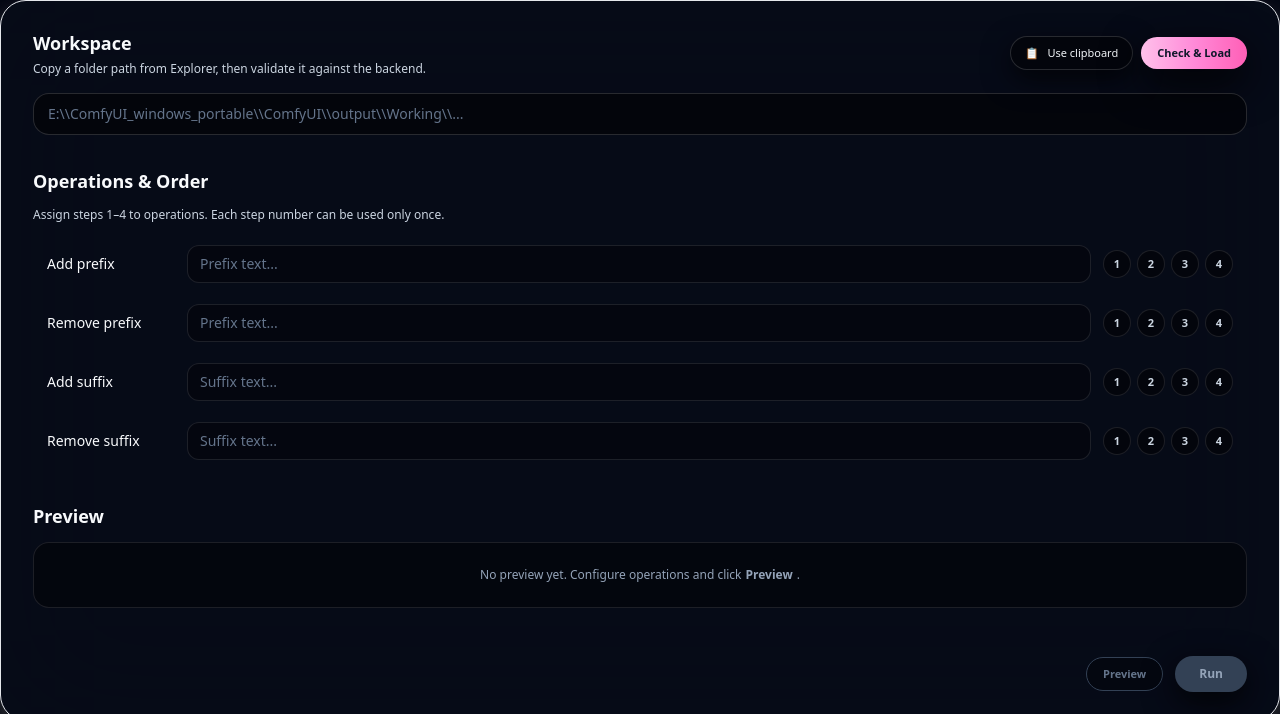
Test case: OpsConsole preview + selective run › supports toggling the select-all checkbox
Type "D:\\Samples" into the field with placeholder "E:\\\\ComfyUI_windows_portable\\\\ComfyUI\\\\output\\\\Working\\\\...".
click(640, 114); type("D:\\Samples")  # box x1=33 y1=93 x2=1247 y2=135
Click the button "Check & Load".
click(1194, 53)  # box x1=1141 y1=37 x2=1247 y2=69
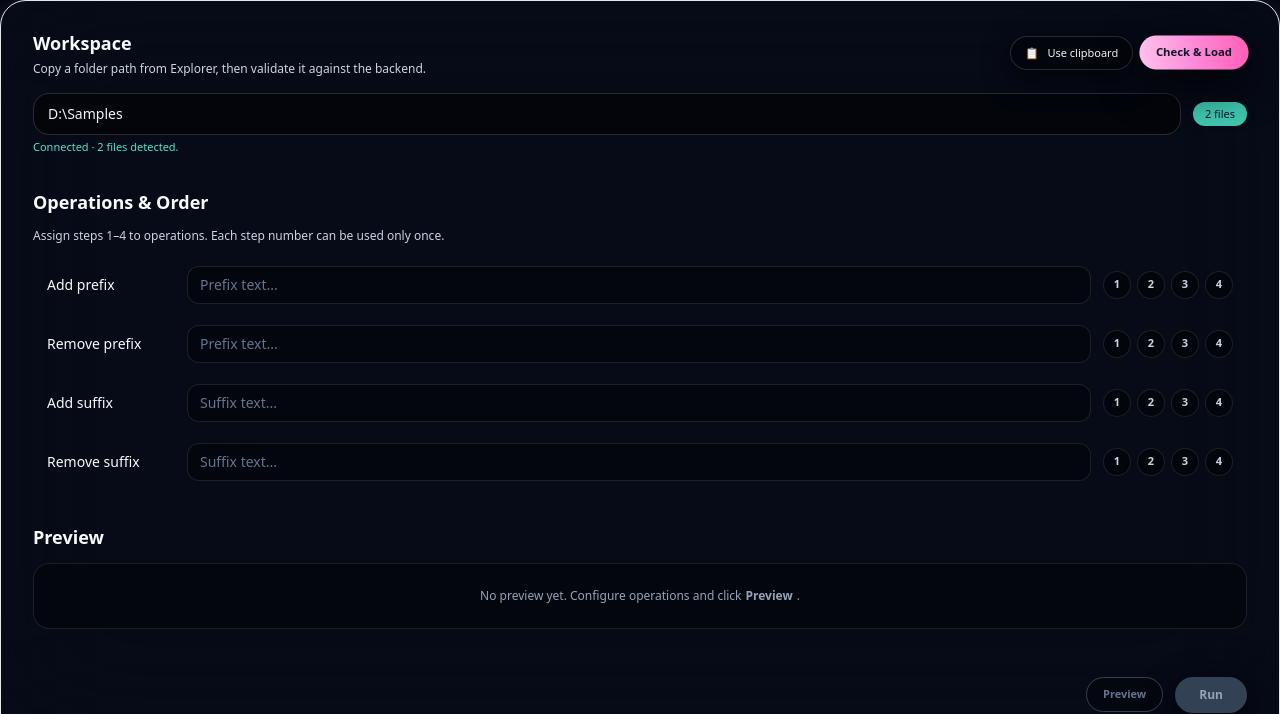
Result: the text "Connected · 2 files detected." is shown at x1=33 y1=139 x2=179 y2=154
Type "hello" into the field with placeholder "Prefix text..." next to "Add prefix".
click(639, 284); type("hello")  # box x1=187 y1=266 x2=1091 y2=304
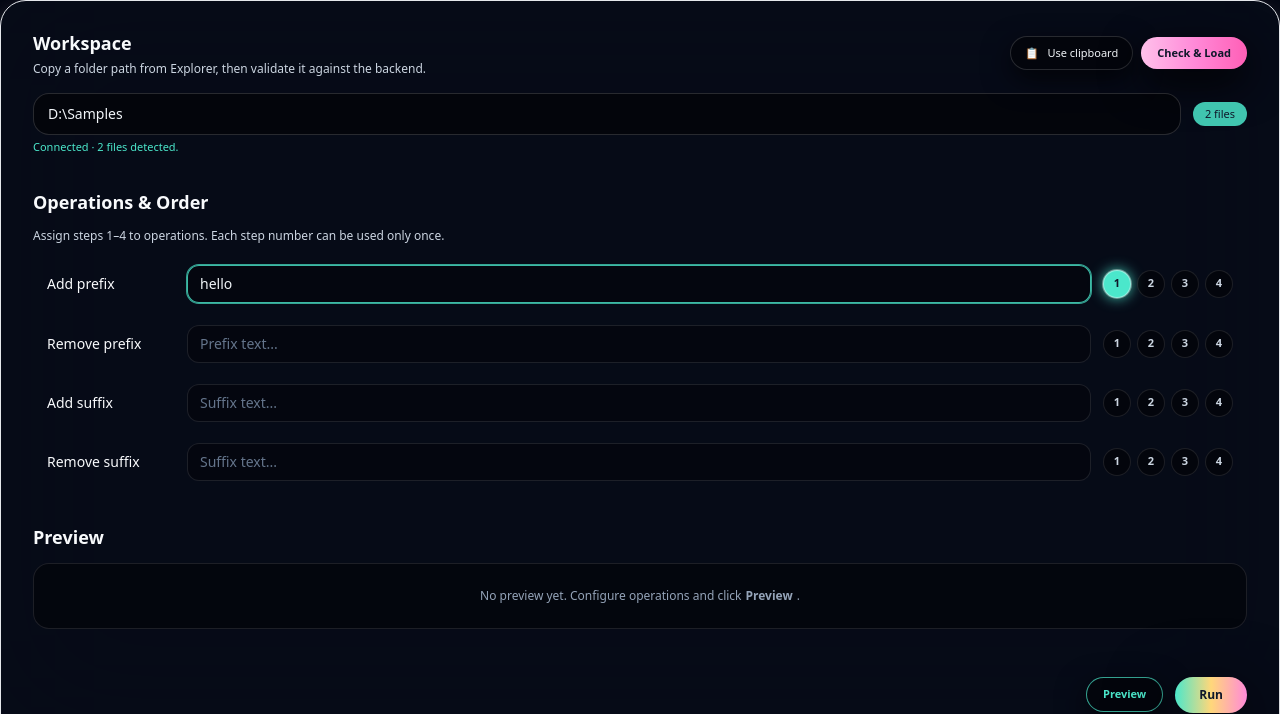
Click the button "1" in the row of "Add prefix".
click(1117, 284)  # box x1=1103 y1=270 x2=1131 y2=298
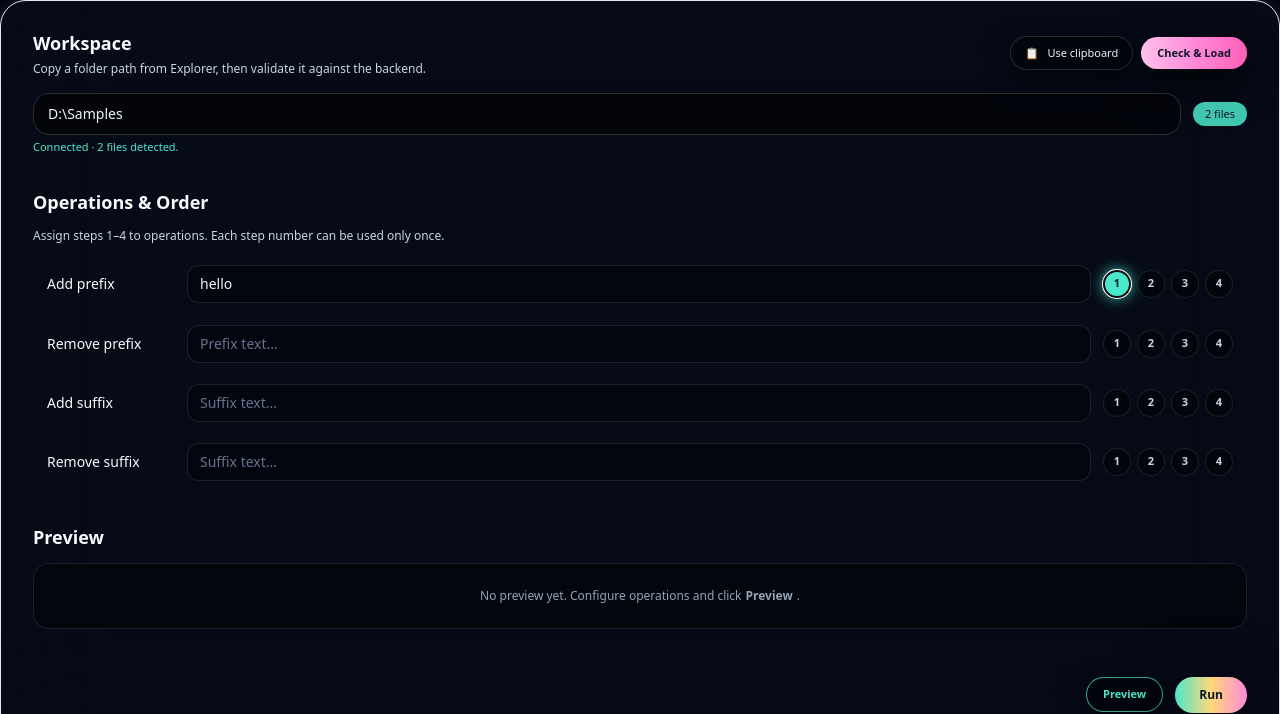
Click the button "Preview".
click(1125, 695)  # box x1=1086 y1=677 x2=1163 y2=712
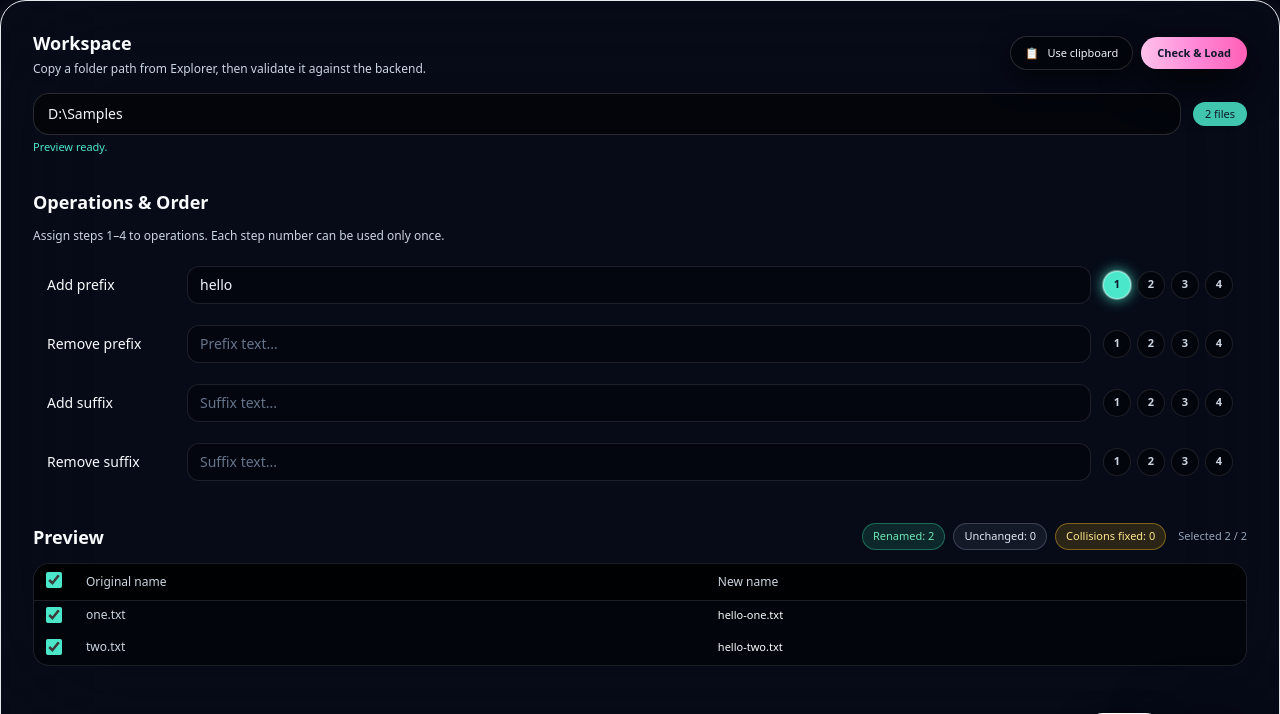
Result: the checkbox named "Select all files" is checked
Click the checkbox named "Select all files".
click(54, 580)  # box x1=46 y1=572 x2=62 y2=588
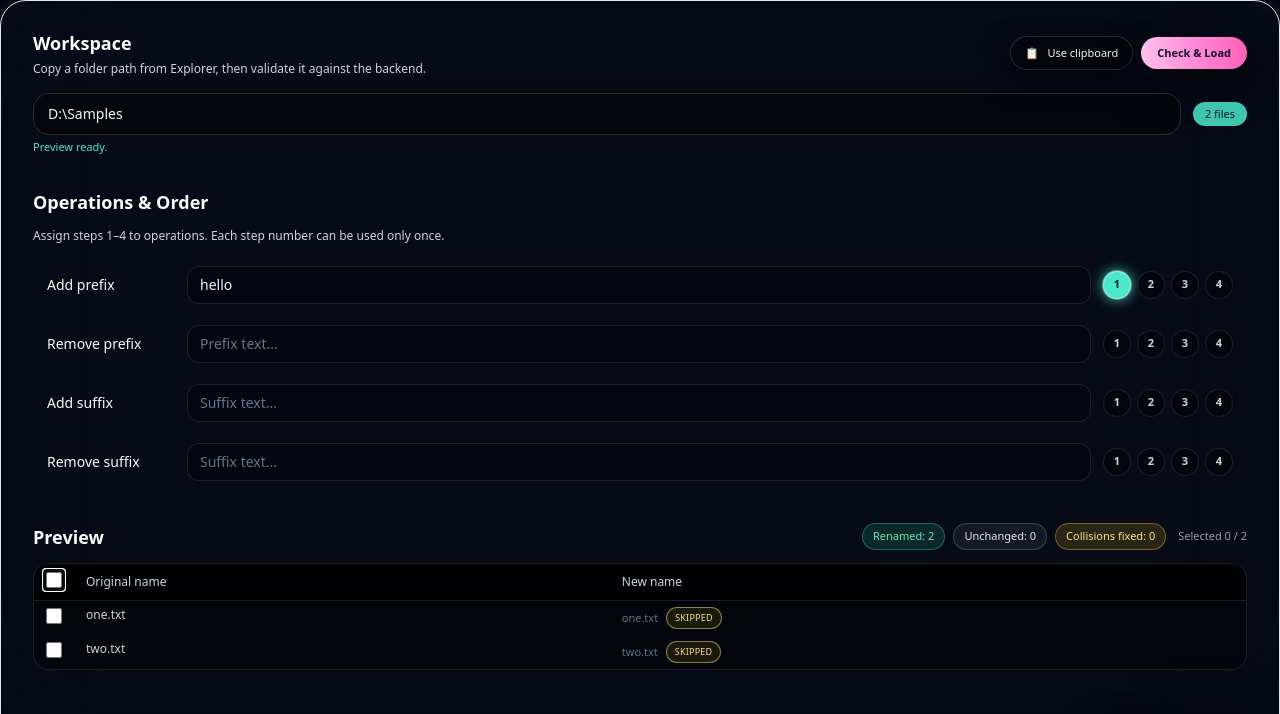
Result: the checkbox named "Select all files" is not checked
Result: the checkbox named "Toggle one.txt" is not checked at x1=46 y1=608 x2=62 y2=624
Result: the checkbox named "Toggle two.txt" is not checked at x1=46 y1=642 x2=62 y2=658
Click the checkbox named "Select all files".
click(54, 580)  # box x1=46 y1=572 x2=62 y2=588
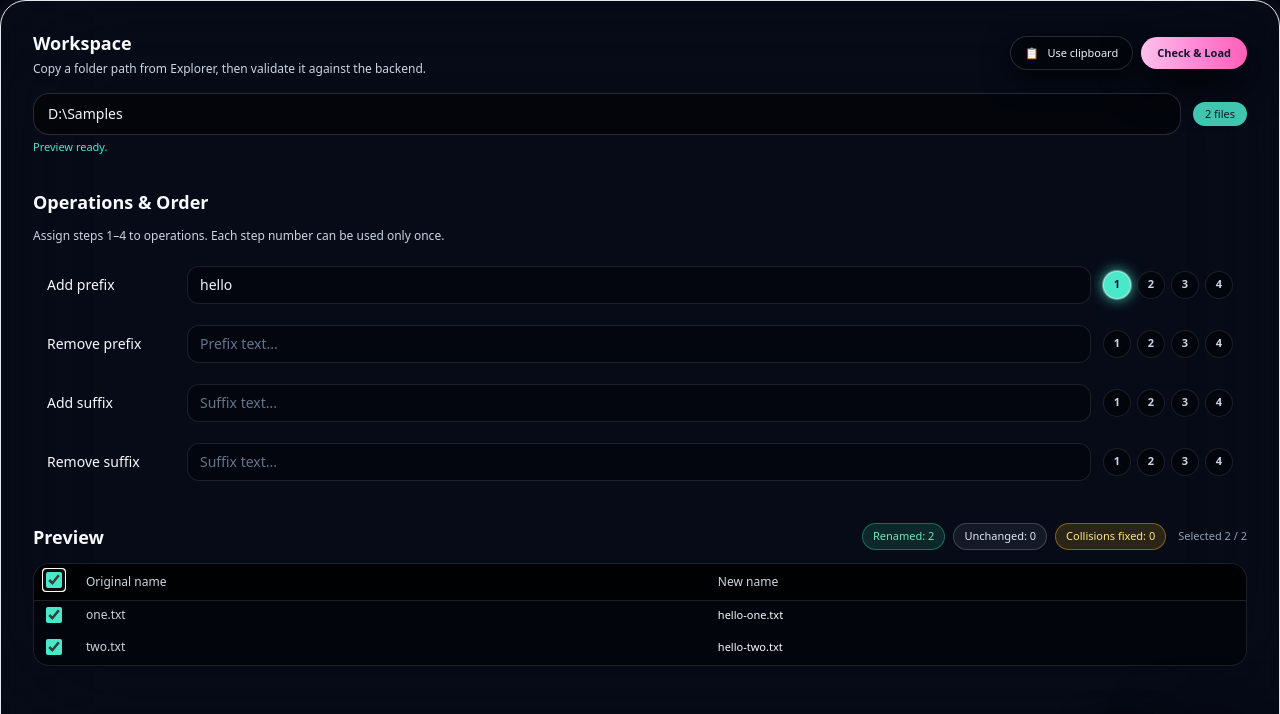
Result: the checkbox named "Toggle one.txt" is checked at x1=46 y1=606 x2=62 y2=622
Result: the checkbox named "Toggle two.txt" is checked at x1=46 y1=638 x2=62 y2=654
